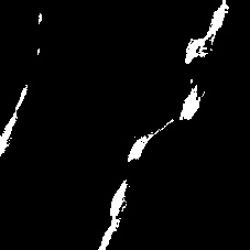crack: (100, 80, 201, 249), (188, 4, 228, 65), (2, 87, 25, 151)
pinhole: (39, 12, 43, 26), (37, 50, 43, 55)
